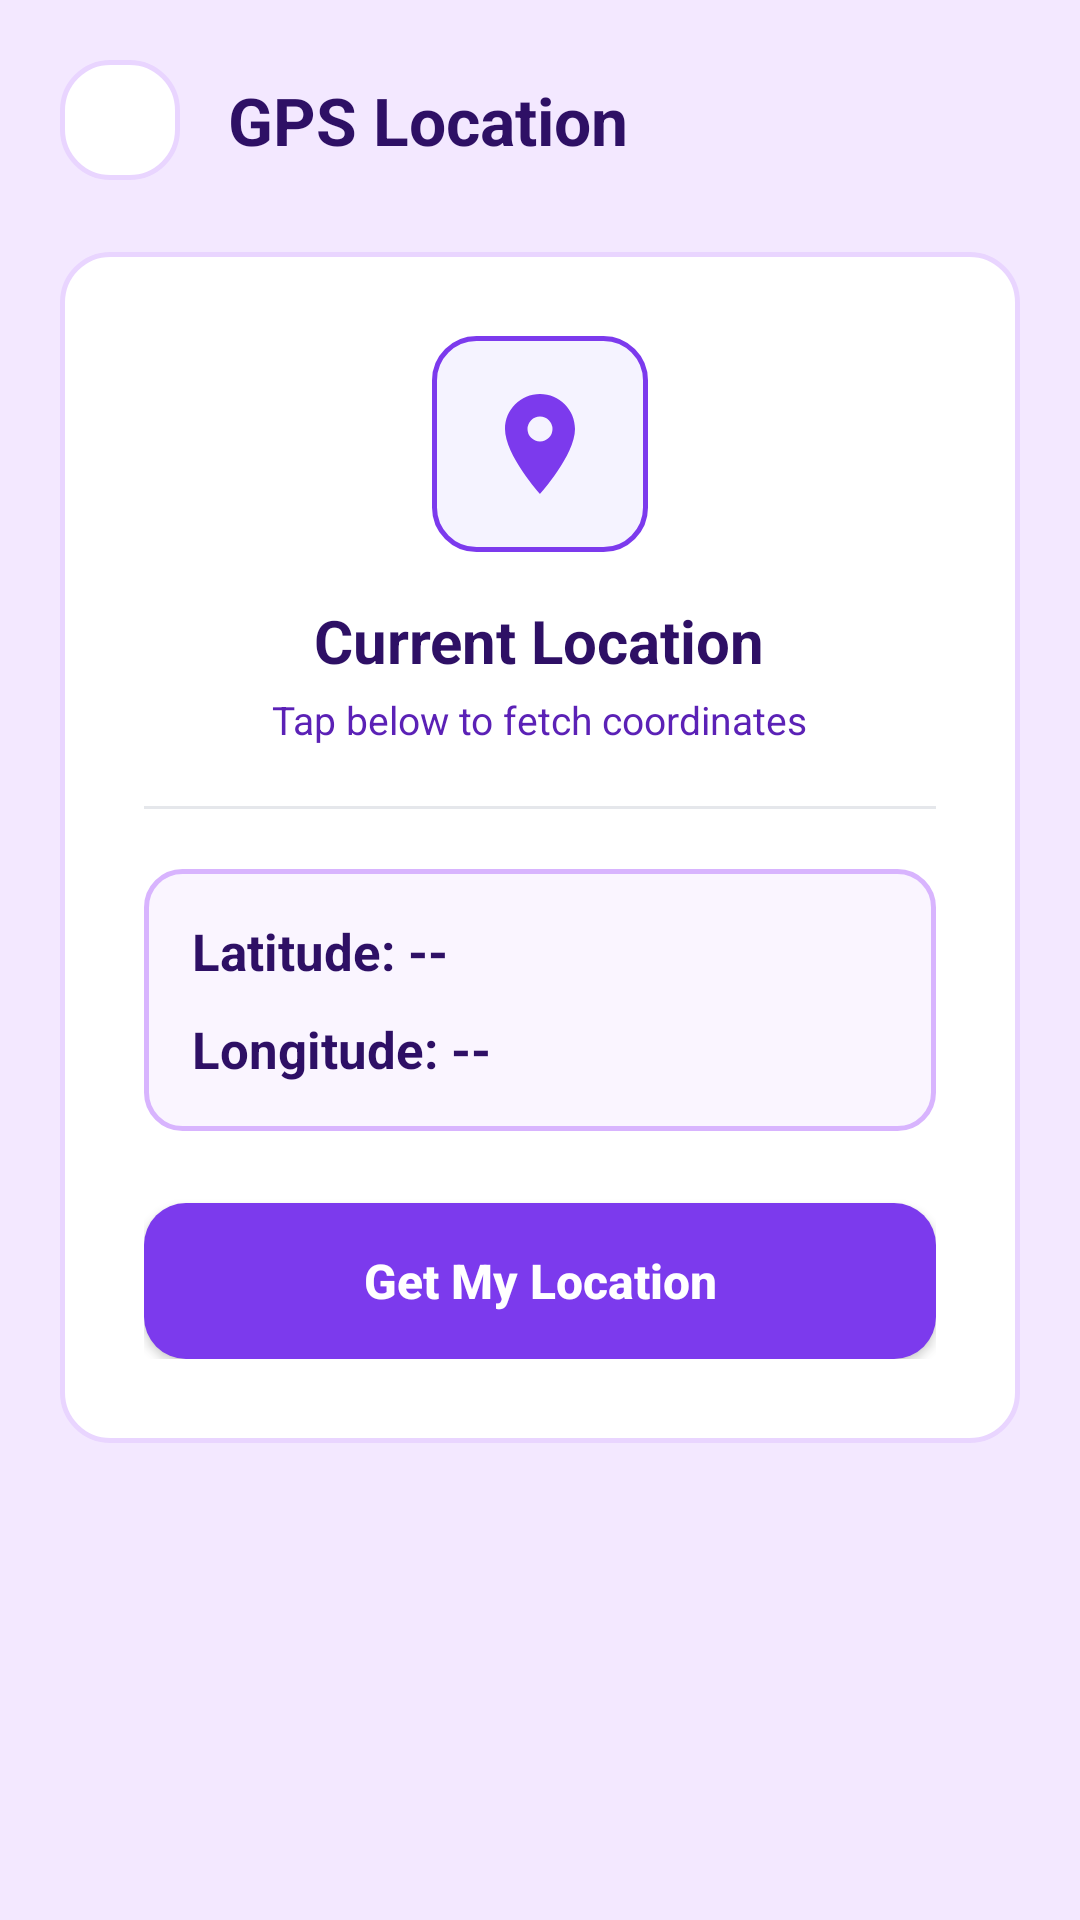

Screen size 1080px x 1920px. Icon name, then its box in pixels as (x1, y1, x2, y2):
Location Marker: (432, 336, 648, 552)
